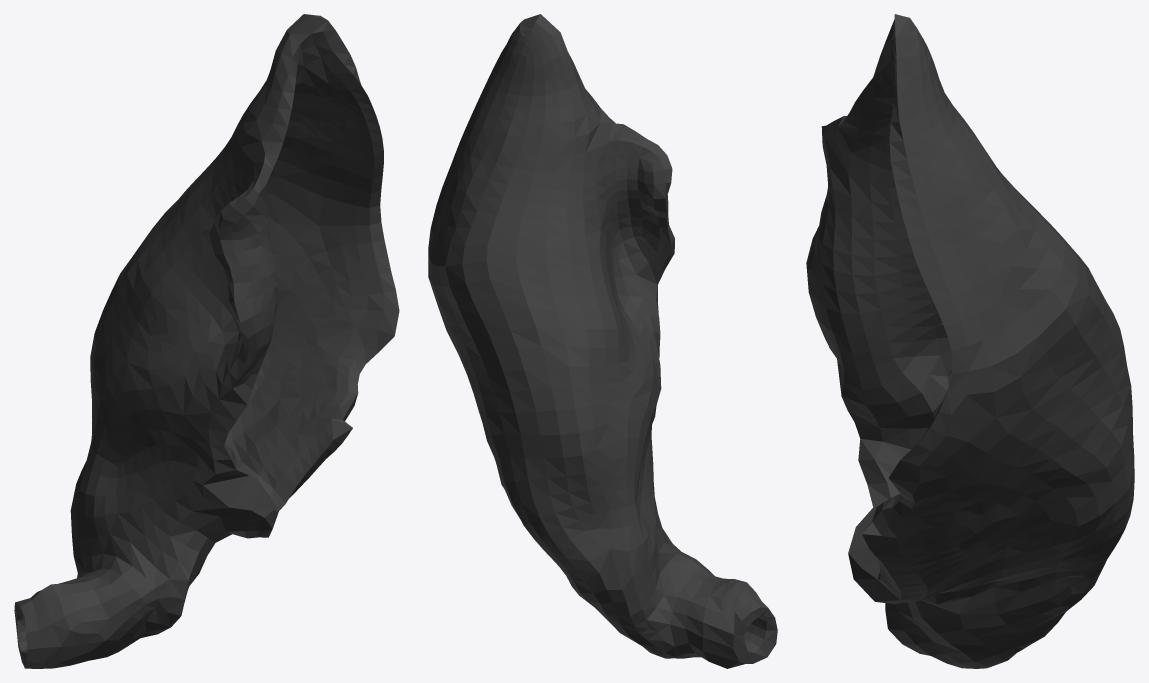
Rendered from EAR_1.glb.
3 views of the same model, side by side, from view 1: azimuth 30°, elevation 25°; view 2: azimuth 150°, elevation 25°; view 3: azimuth 270°, elevation 25° (orthographic). The views are drawn at different scales.
Visible parts, largest first — view 1: EAR_1; view 2: EAR_1; view 3: EAR_1.
Boxes of the visible parts, <box> form: EAR_1: <box>14,14,399,668</box>; EAR_1: <box>428,14,777,668</box>; EAR_1: <box>806,14,1134,668</box>.
Size of the model in its own units: 0.6519 by 1.06 by 0.4164.
1 material, 1 textured.
